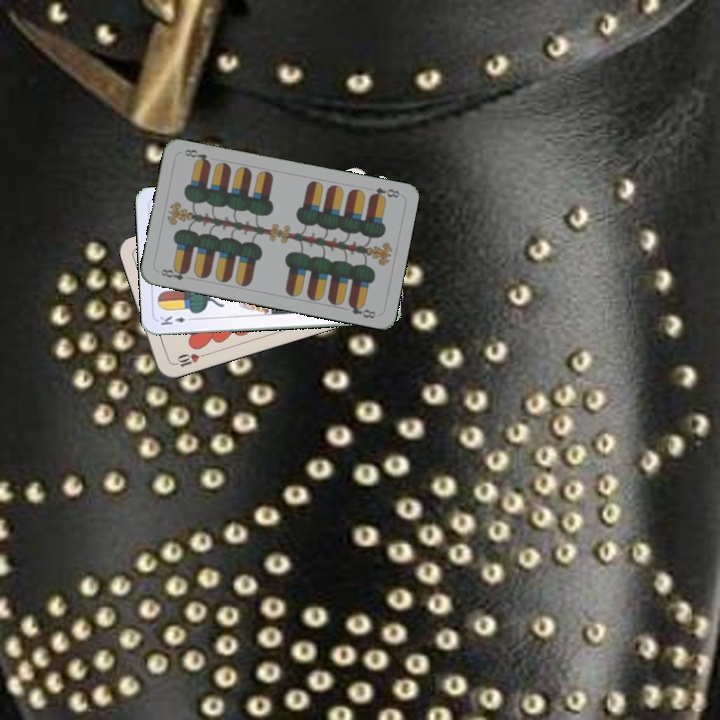E8: (365, 183, 402, 202), (156, 264, 191, 283)
EK: (156, 312, 196, 328)
H10: (169, 349, 209, 369)
